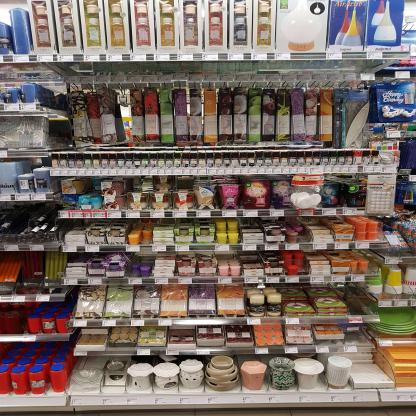Void: (85, 357, 101, 368)
